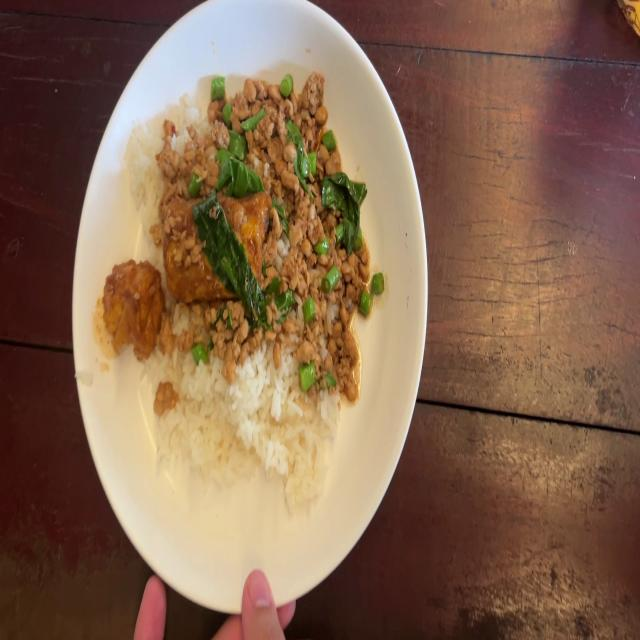01rice: (150, 350, 339, 524), (128, 108, 163, 220), (182, 90, 199, 138)
fried_tofo: (165, 195, 269, 291), (101, 258, 163, 358)
minced_pork: (266, 186, 370, 386), (164, 282, 291, 356), (182, 136, 350, 188), (210, 74, 336, 136), (165, 108, 182, 190)
stir_fried_basil: (102, 81, 386, 512)
